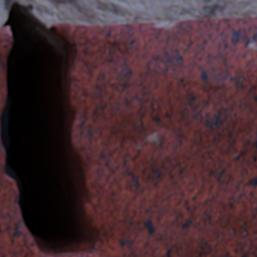brick: (0, 19, 256, 256), (0, 27, 12, 116)
crack: (0, 1, 93, 254)
